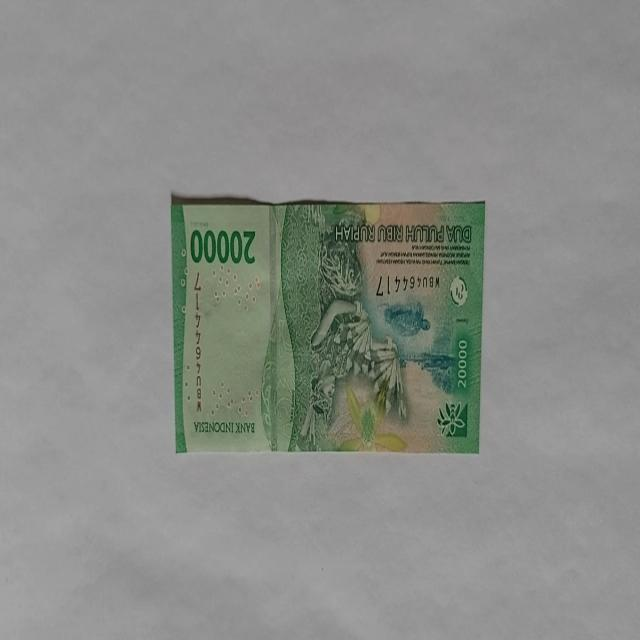dua puluh ribu rupiah: (170, 197, 486, 456), (262, 202, 408, 452)
